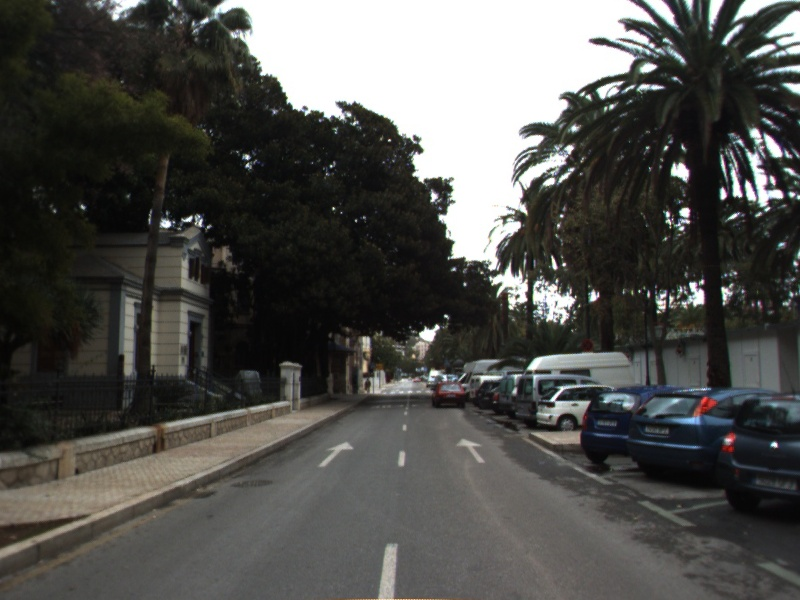STRAIGHT: (315, 440, 357, 469), (453, 436, 488, 465)
